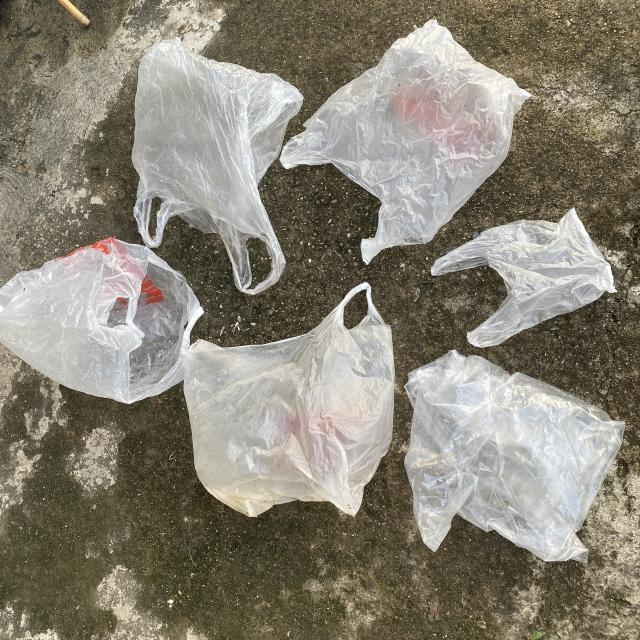Single-layer Plastic: (280, 20, 530, 264), (184, 282, 394, 516), (405, 350, 625, 562), (132, 39, 302, 294), (0, 238, 204, 404), (431, 209, 616, 348)
